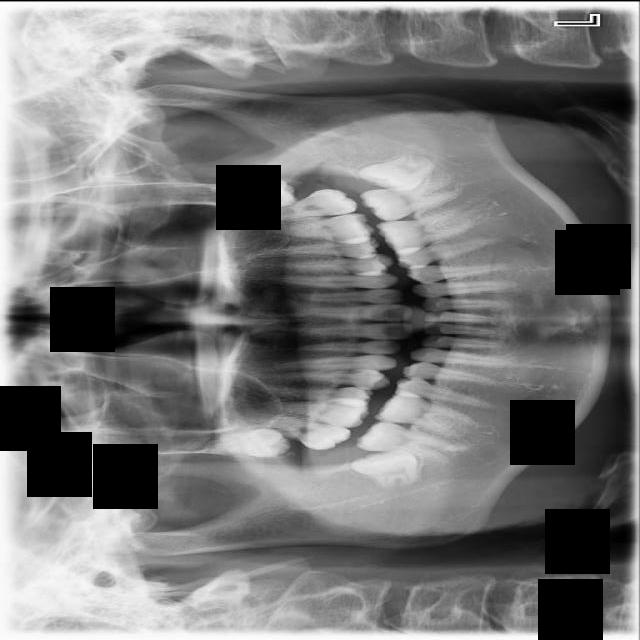3M ESPE Implant: (206, 423, 292, 459)
73: (562, 58, 582, 62)
BioHorizons Implant: (252, 185, 359, 222)
BioLife Implant: (207, 175, 297, 212)
Biomet 3i Implant: (357, 146, 439, 203)
Blue Sky Bio Implant: (359, 176, 462, 224)
Caries: (243, 403, 353, 456)
Implant: (356, 416, 458, 463)
Keystone Dental Implant: (348, 444, 422, 495)
